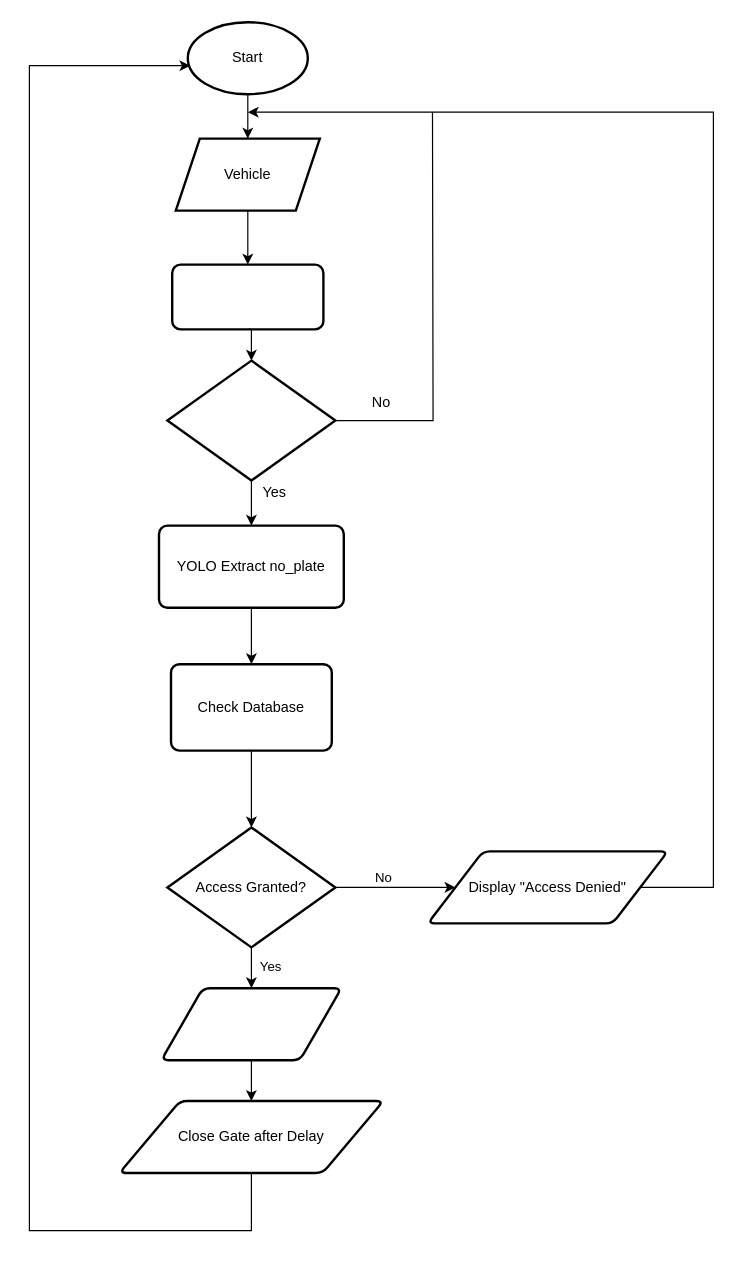
This 744x1261 diagram has some shape labels left out. The centre of each missing label's shape, as x and y in pixels:
"ESP32-Cam Snap Image" goes at point 247,296.
"Open gate" goes at point 251,1023.
"Vehicle Detected?" goes at point 251,420.
